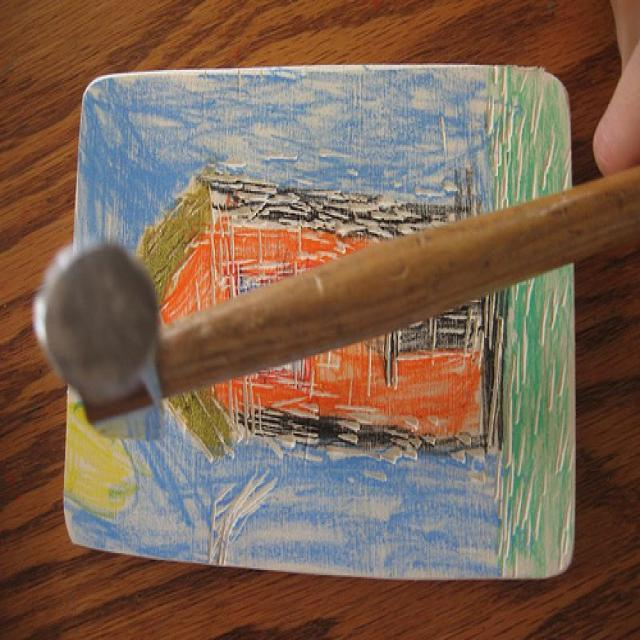hammer: (23, 133, 640, 438)
